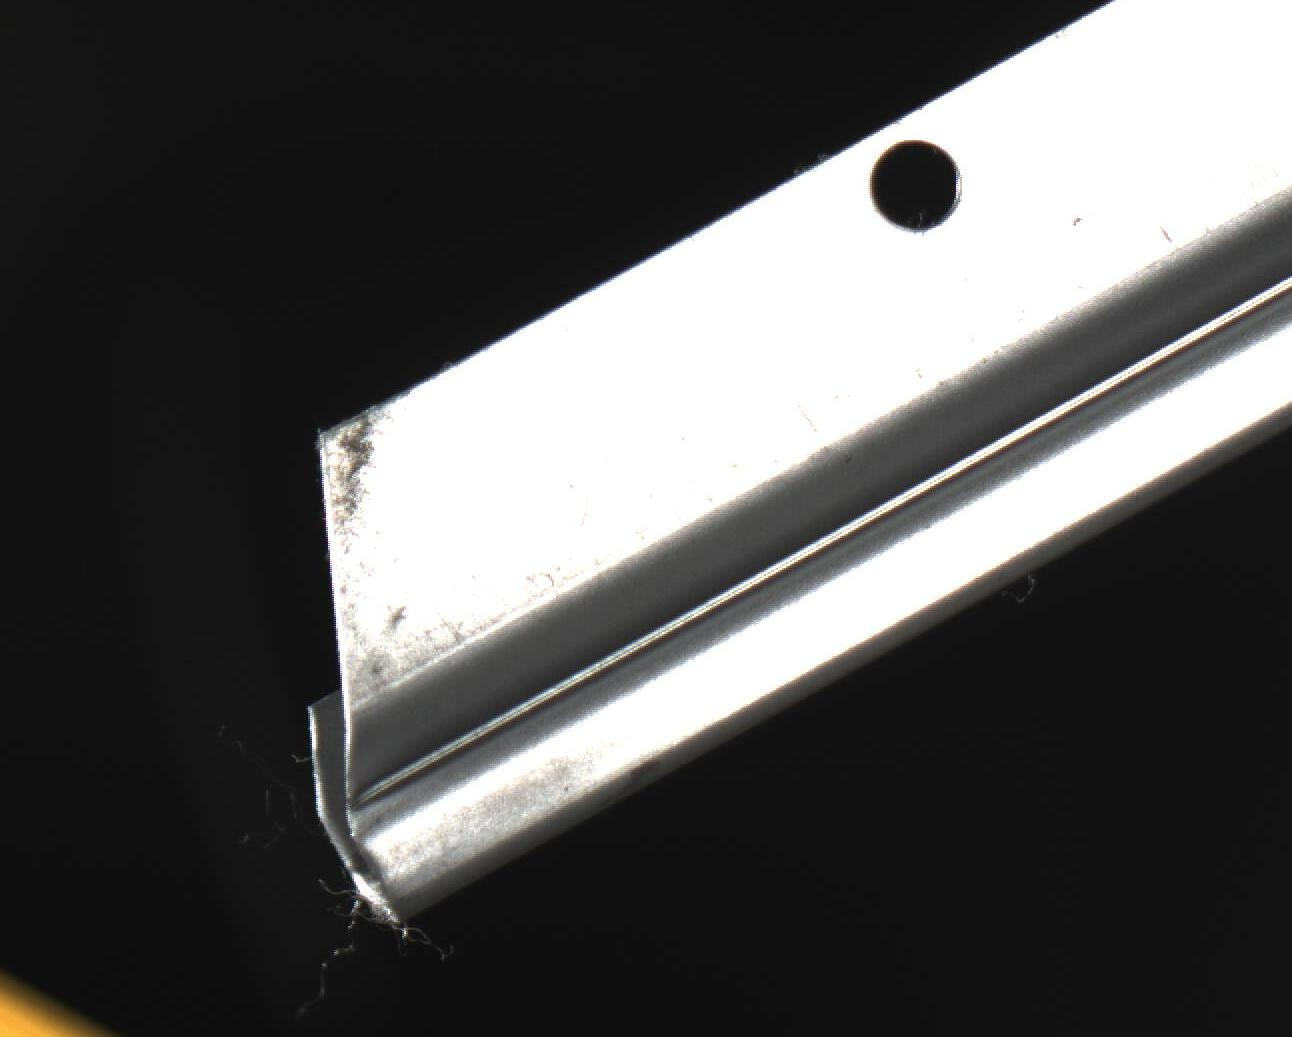cut: (249, 356, 710, 938)
holes: (872, 138, 964, 233)
